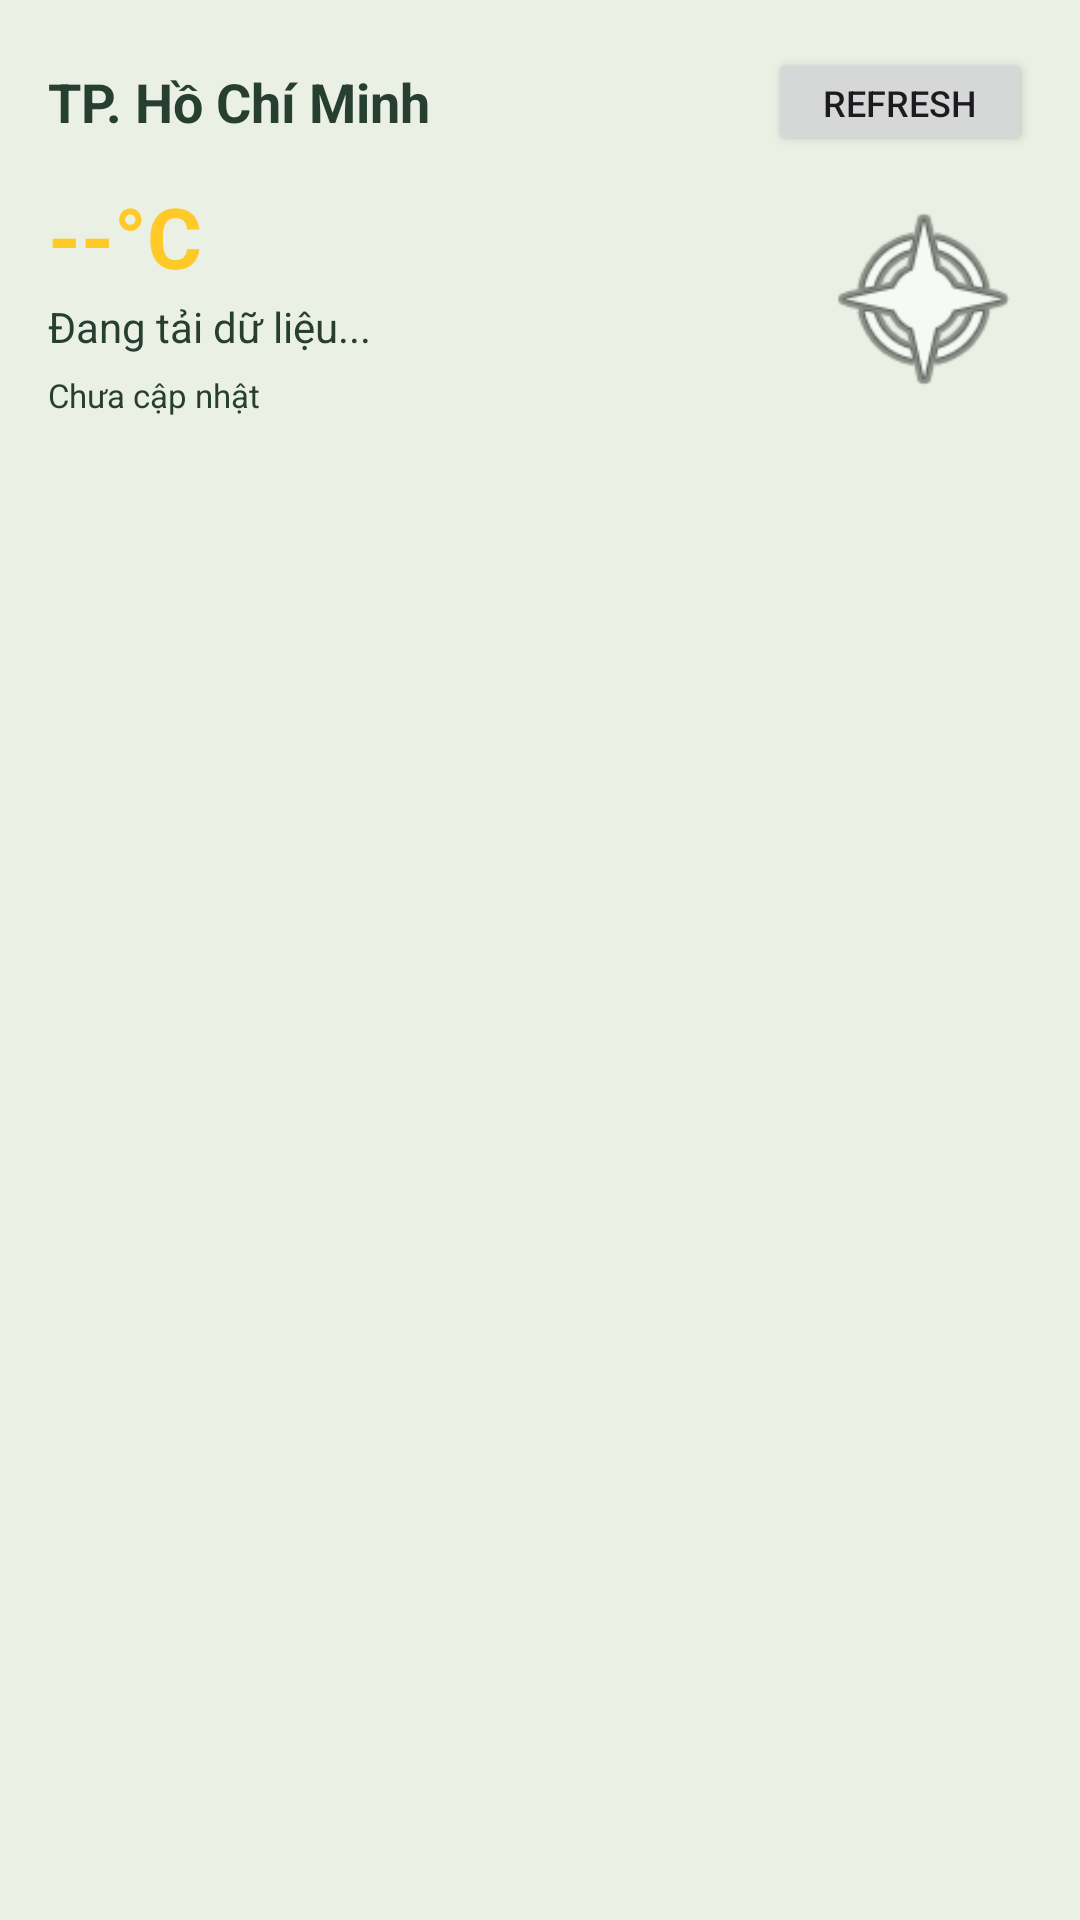

Icon click points for this 1080*1920 phone screenshot, format point (x, y):
compass: point (923, 299)
